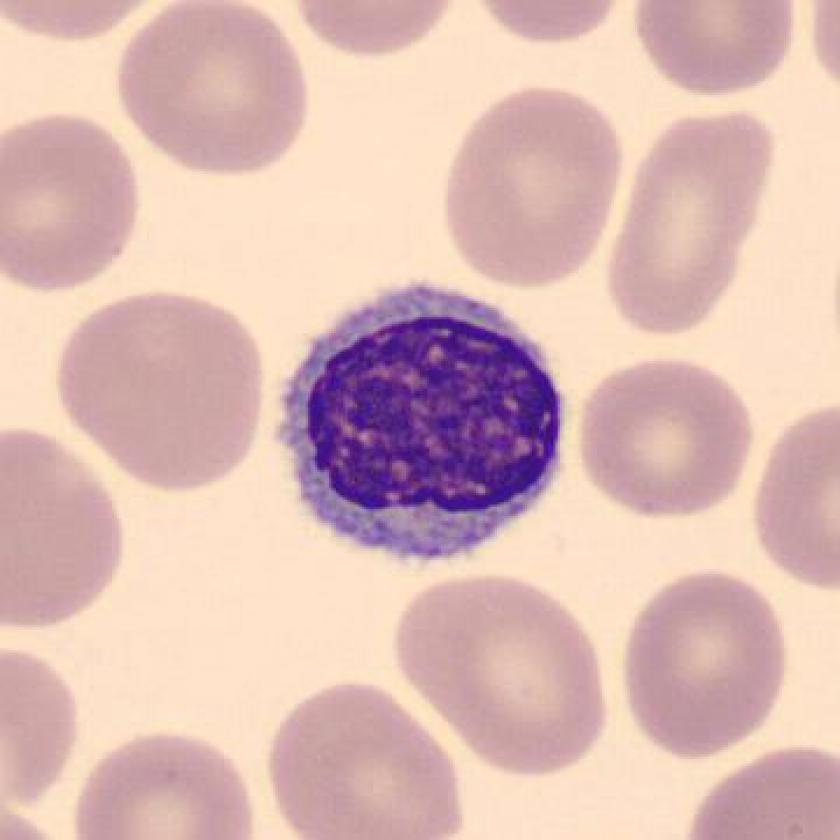lymphocyte: (265, 272, 582, 582)
